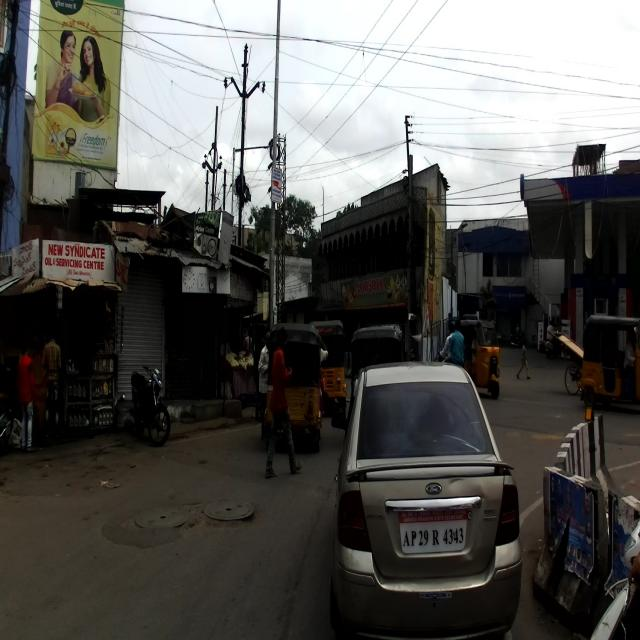autorickshaw: (269, 322, 323, 451), (580, 311, 638, 406), (350, 324, 402, 402)
car: (330, 357, 522, 637)
motorcycle: (128, 362, 172, 446)
